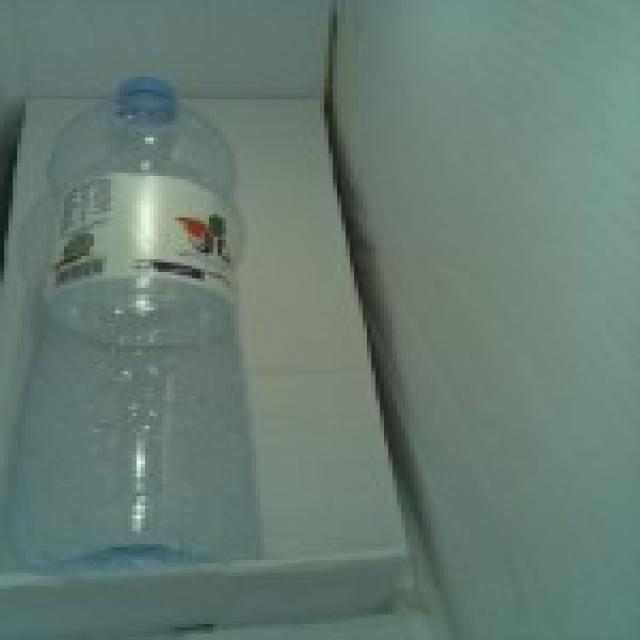good: (18, 60, 284, 590)
